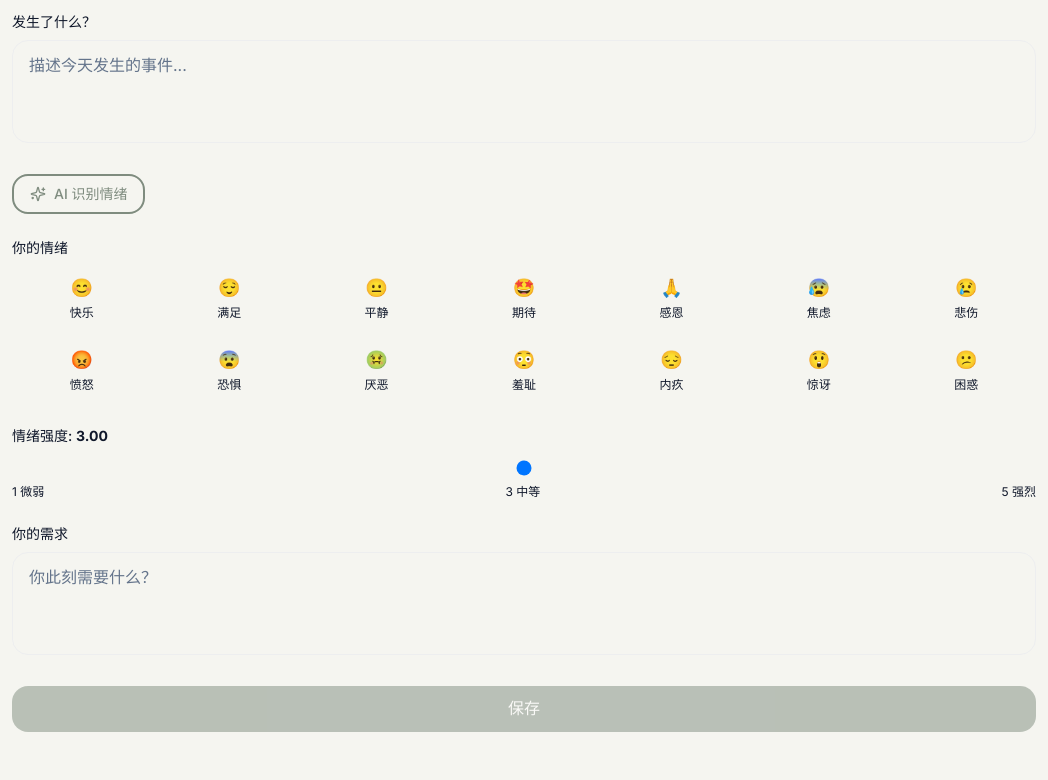
Test: AC-3 前端: AI 情绪识别降级 › AI 不可用时显示提示，用户仍可手动保存
This screenshot has width=1048, height=780.
填写事件（textarea, placeholder: "描述今天发生的事件..."）
In the text box with placeholder "描述今天发生的事件...": (524, 91) [12, 40, 1036, 143], type "今天心情不好"
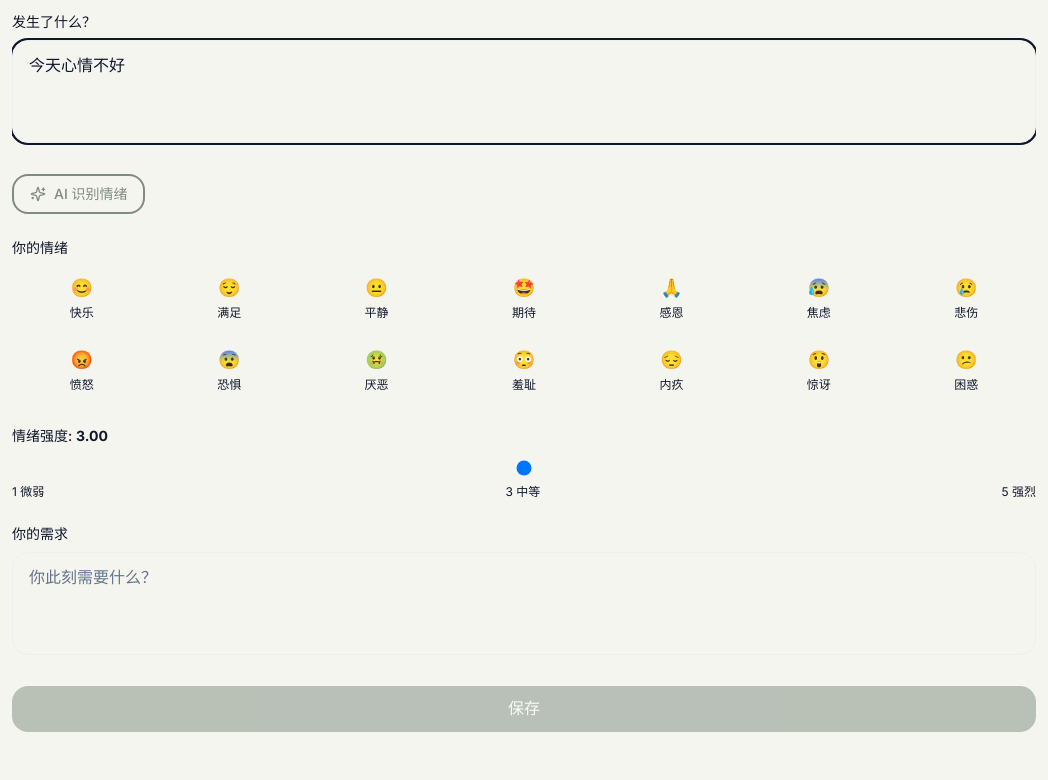
In the text box with placeholder "你此刻需要什么？": (524, 603) [12, 552, 1036, 655], type "需要休息"
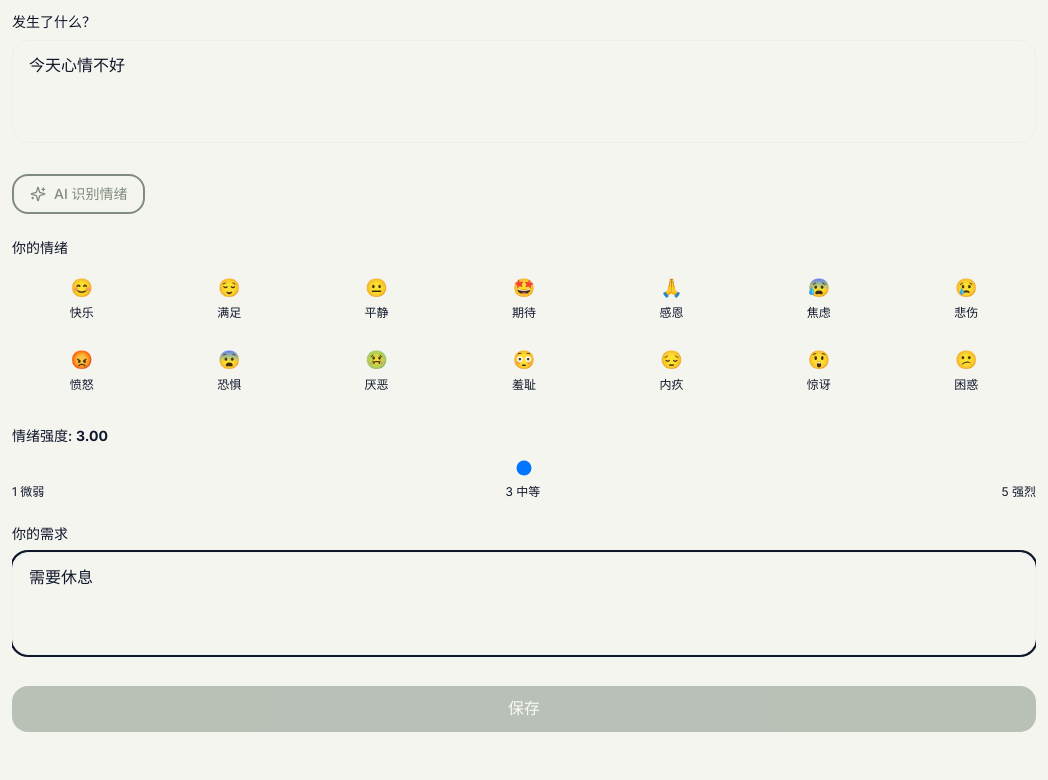
点击 AI 识别情绪按钮
Click the button "AI 识别情绪": (79, 194) [12, 174, 146, 214]
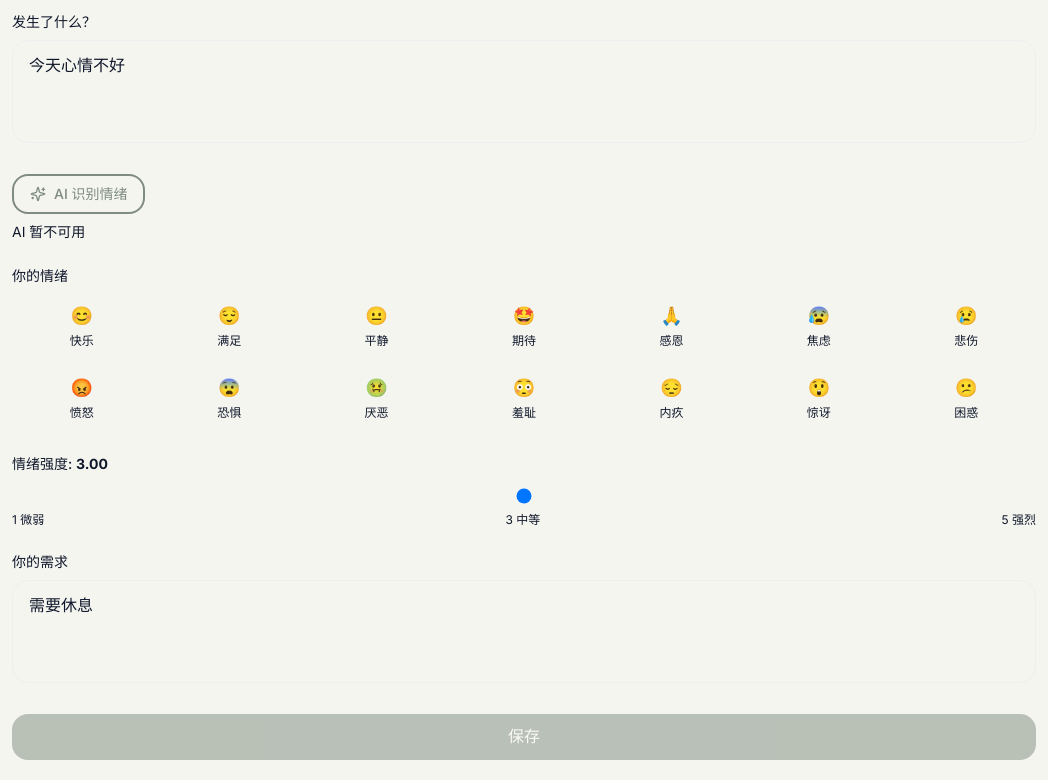
Expected: the text "AI 暂不可用" is shown, [12, 223, 85, 240]
手动选择情绪类型（按钮网格）
Click the button "😢 悲伤": (966, 326) [897, 294, 1036, 358]
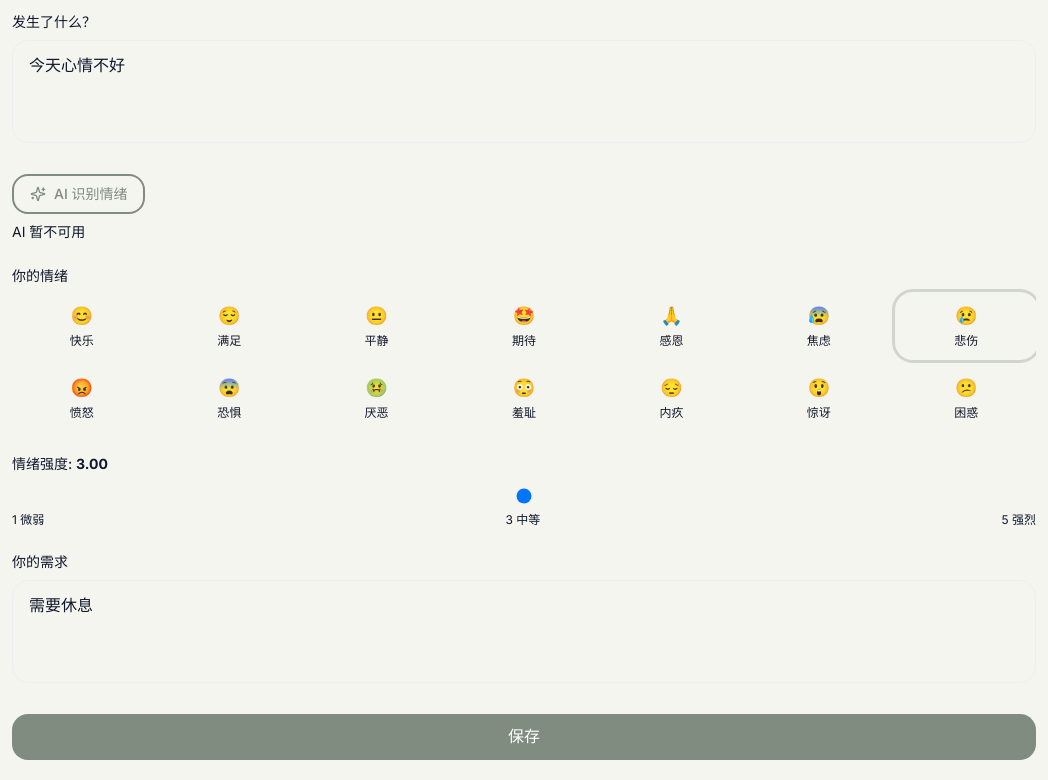
Expected: the button "保存" is enabled, [12, 714, 1036, 760]
